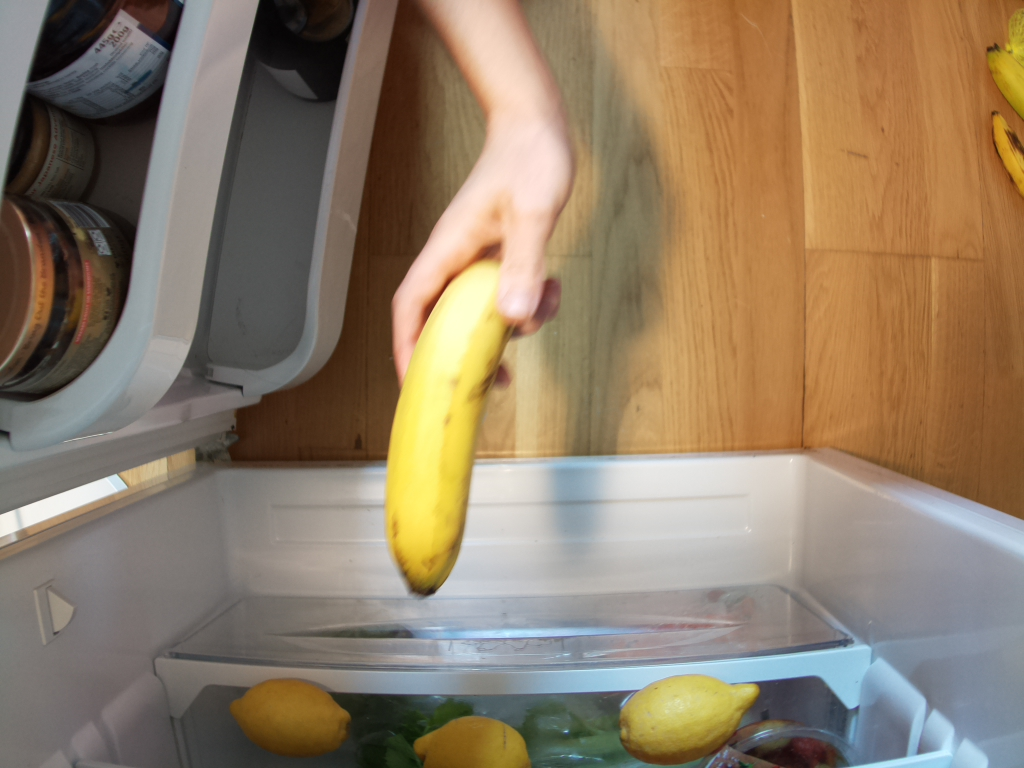banana: (382, 233, 536, 608)
